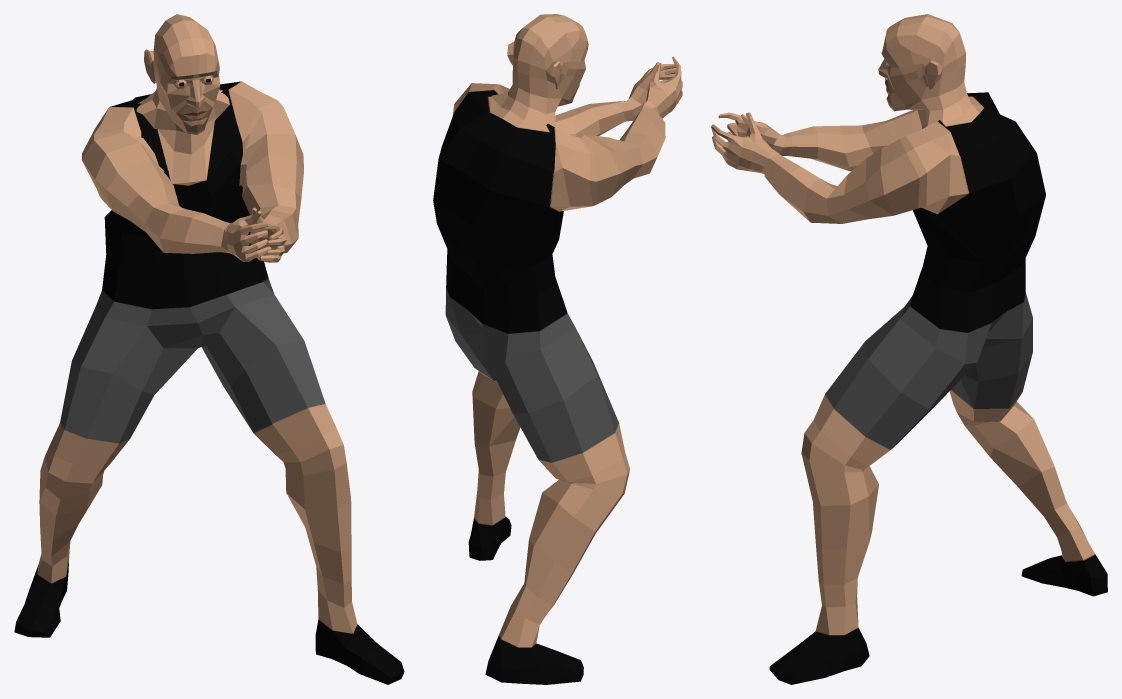
Rendered from PlayerShoot(11).obj.
The picture shows the model from 3 angles, left to right: view 1: azimuth 30°, elevation 25°; view 2: azimuth 150°, elevation 25°; view 3: azimuth 270°, elevation 25°; orthographic projection. The views are drawn at different scales.
Parts seen in each view (by area): view 1: Plane002; view 2: Plane002; view 3: Plane002.
Part boxes in pixels (bbox=[...]): Plane002: bbox=[14, 14, 404, 684]; Plane002: bbox=[433, 14, 682, 684]; Plane002: bbox=[711, 14, 1107, 684].
Size of the model in its own units: 716 by 1675 by 1004.
